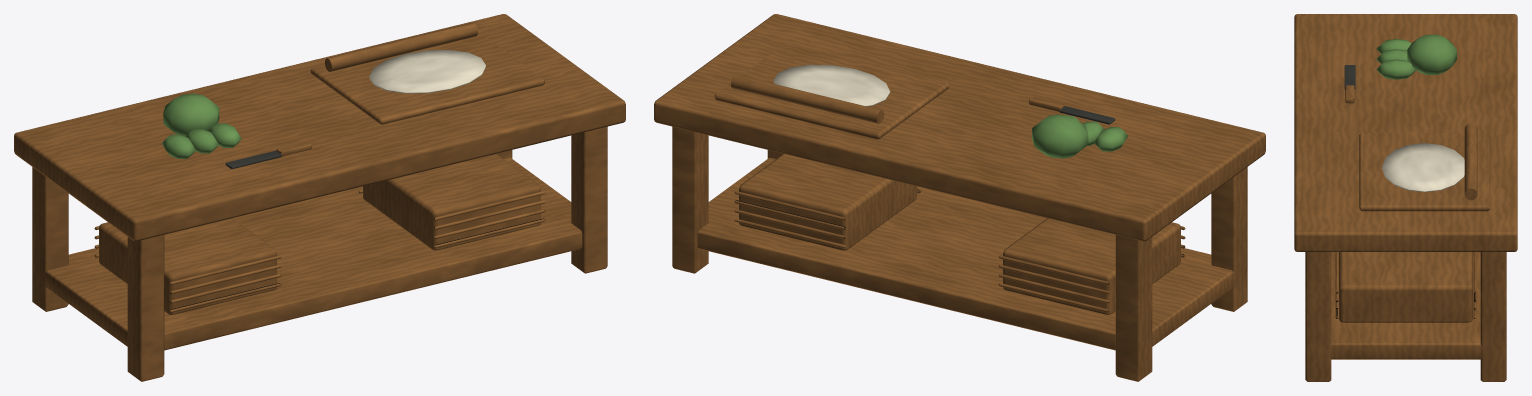
The model's file is Furn_KitchenIslandBig.fbx.
3 renders of one model, left to right at view 1: azimuth 30°, elevation 25°; view 2: azimuth 150°, elevation 25°; view 3: azimuth 270°, elevation 25°, orthographic. The views are drawn at different scales.
Parts seen in each view (by area): view 1: Furn_KitchenIslandBig_Mesh; view 2: Furn_KitchenIslandBig_Mesh; view 3: Furn_KitchenIslandBig_Mesh.
Boxes of the visible parts, x1=… form: Furn_KitchenIslandBig_Mesh: x1=14, y1=14, x2=625, y2=381; Furn_KitchenIslandBig_Mesh: x1=654, y1=14, x2=1265, y2=381; Furn_KitchenIslandBig_Mesh: x1=1294, y1=14, x2=1517, y2=381.
Size of the model in its own units: 2.8 by 1.12 by 1.2.
